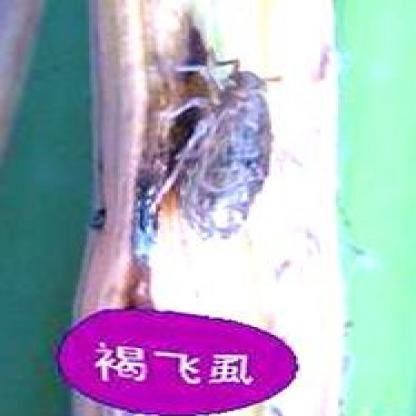brown-planthopper: (164, 52, 278, 242)
